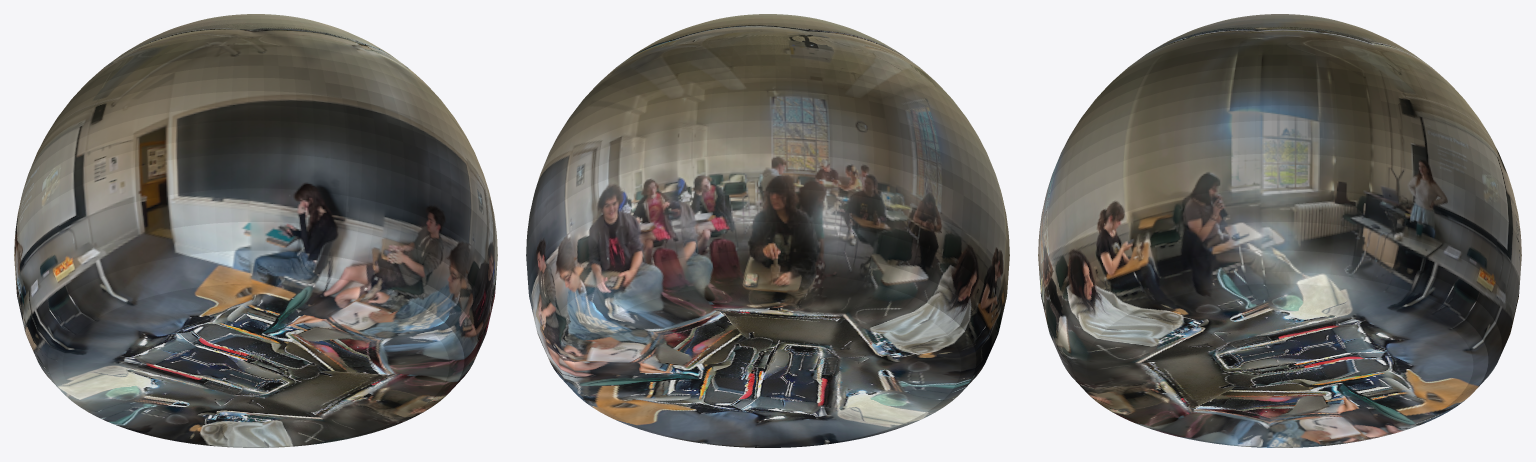
File: salon-clases.glb
3 views of the same model, side by side, from view 1: azimuth 30°, elevation 25°; view 2: azimuth 150°, elevation 25°; view 3: azimuth 270°, elevation 25° (orthographic).
Bounding box in the file's own units: 2 × 1.5 × 2.
Materials: 1 (1 with a texture image).
